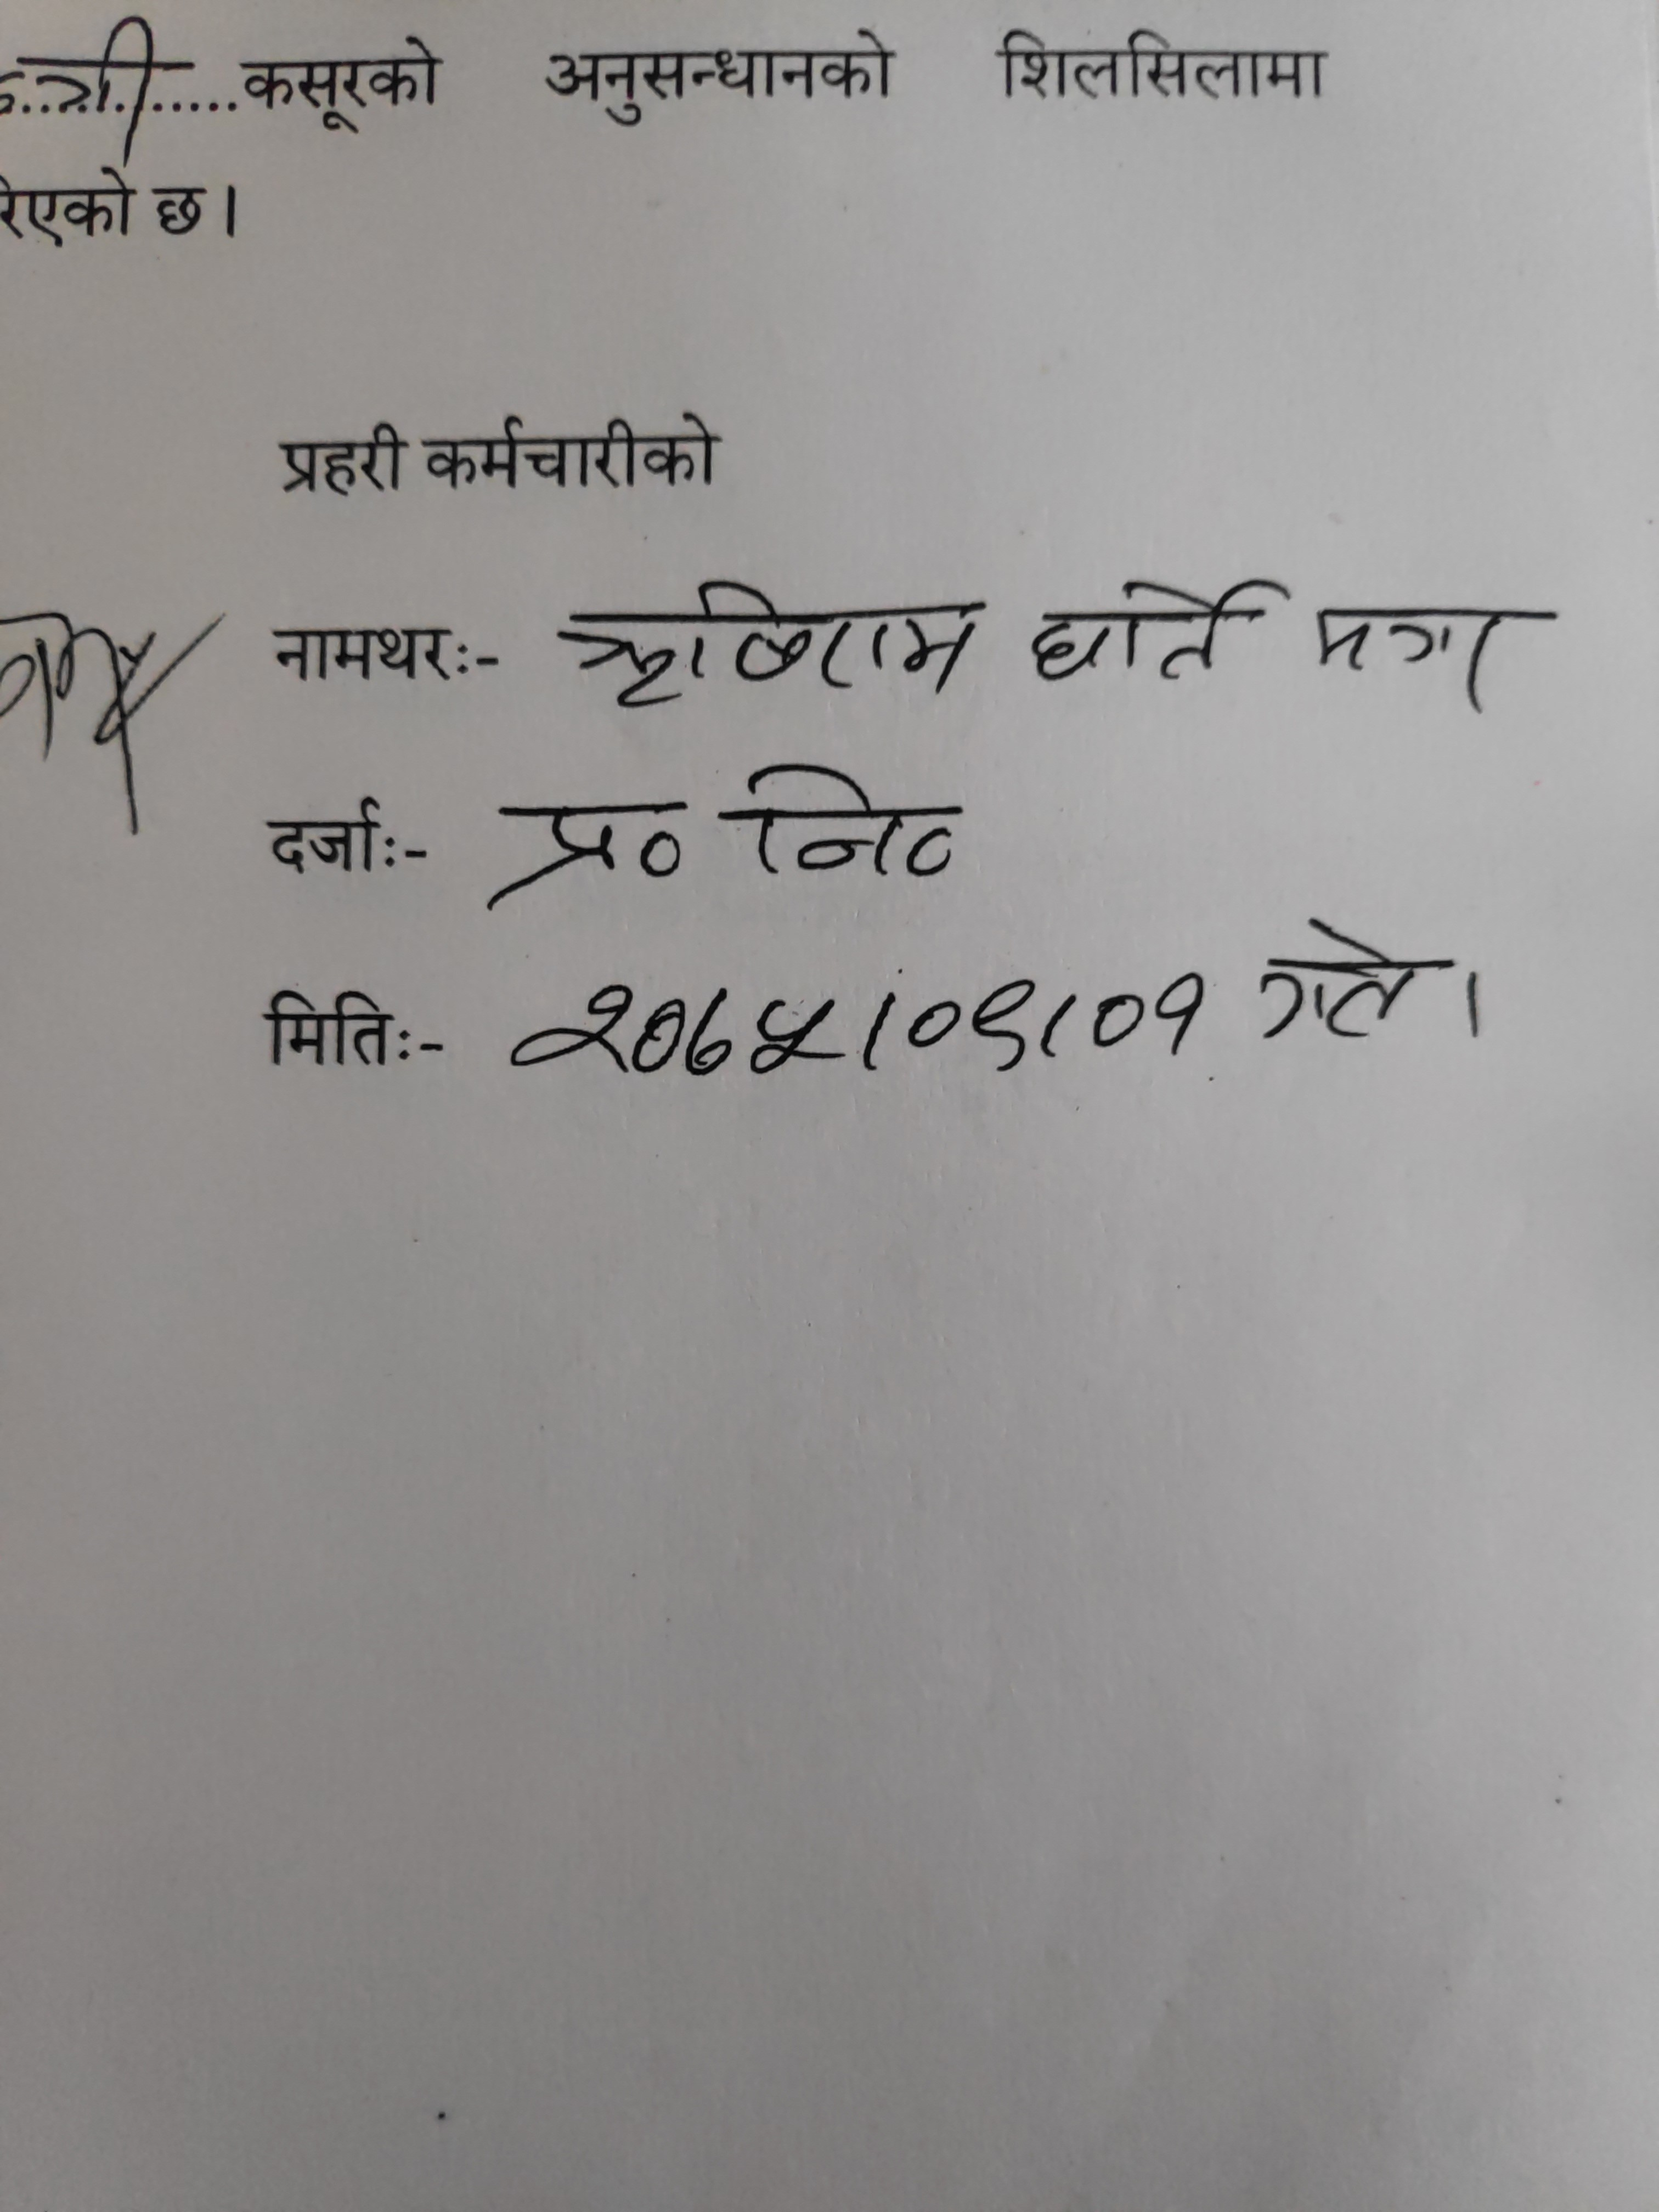text: (505, 954, 1215, 1103), (474, 758, 993, 902), (538, 570, 986, 712), (1025, 580, 1293, 693), (1305, 589, 1535, 705), (1253, 918, 1427, 1064)
